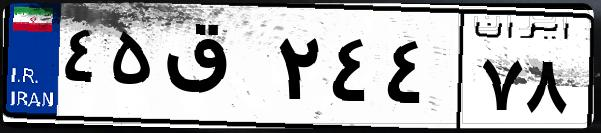2: (270, 28, 330, 110)
4: (385, 28, 445, 110), (330, 28, 385, 110), (57, 26, 110, 100)
5: (110, 28, 158, 98)
7: (475, 38, 525, 113)
8: (525, 38, 570, 115)
ق: (158, 20, 270, 120)
